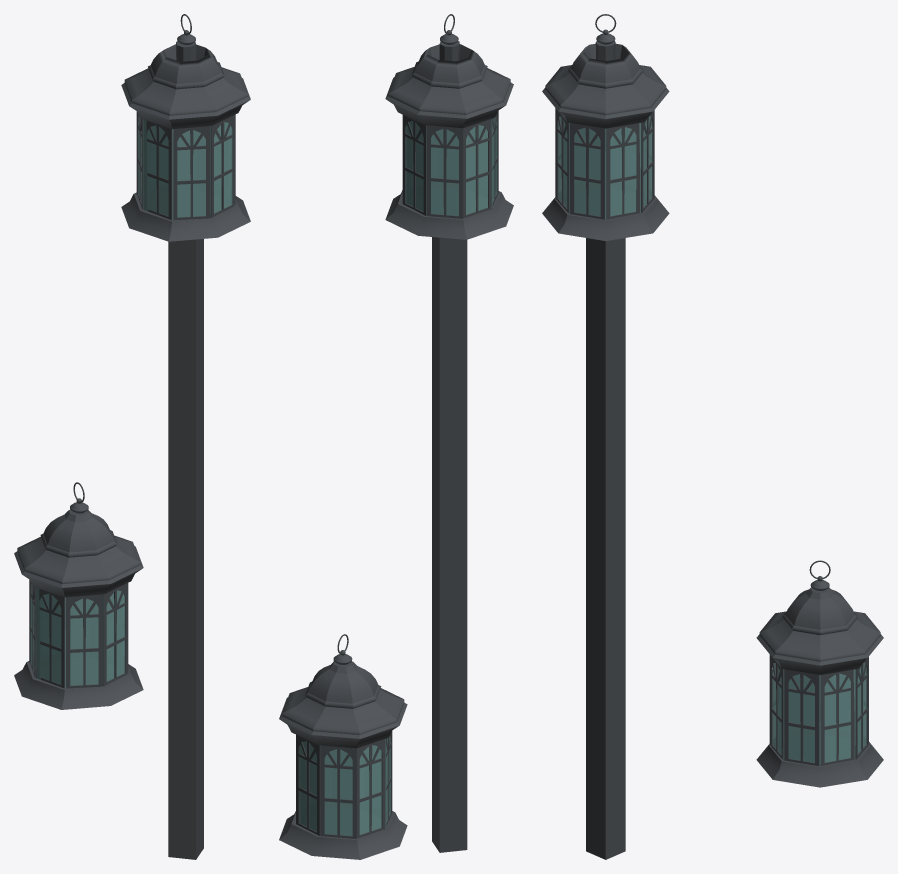
The model's file is Lanterns.fbx.
3 renders of one model, left to right at view 1: azimuth 30°, elevation 25°; view 2: azimuth 150°, elevation 25°; view 3: azimuth 270°, elevation 25°, orthographic.
Parts seen in each view (by area): view 1: LanternStanding, LanternHanging; view 2: LanternStanding, LanternHanging; view 3: LanternStanding, LanternHanging.
Boxes of the visible parts, x1,y1,x2,y2 form: LanternStanding: [121, 14, 250, 859]; LanternHanging: [14, 482, 143, 709]; LanternStanding: [385, 14, 513, 852]; LanternHanging: [279, 634, 407, 859]; LanternStanding: [542, 14, 669, 859]; LanternHanging: [756, 560, 883, 787].
Size of the model in its own units: 33.14 by 233 by 86.18.
